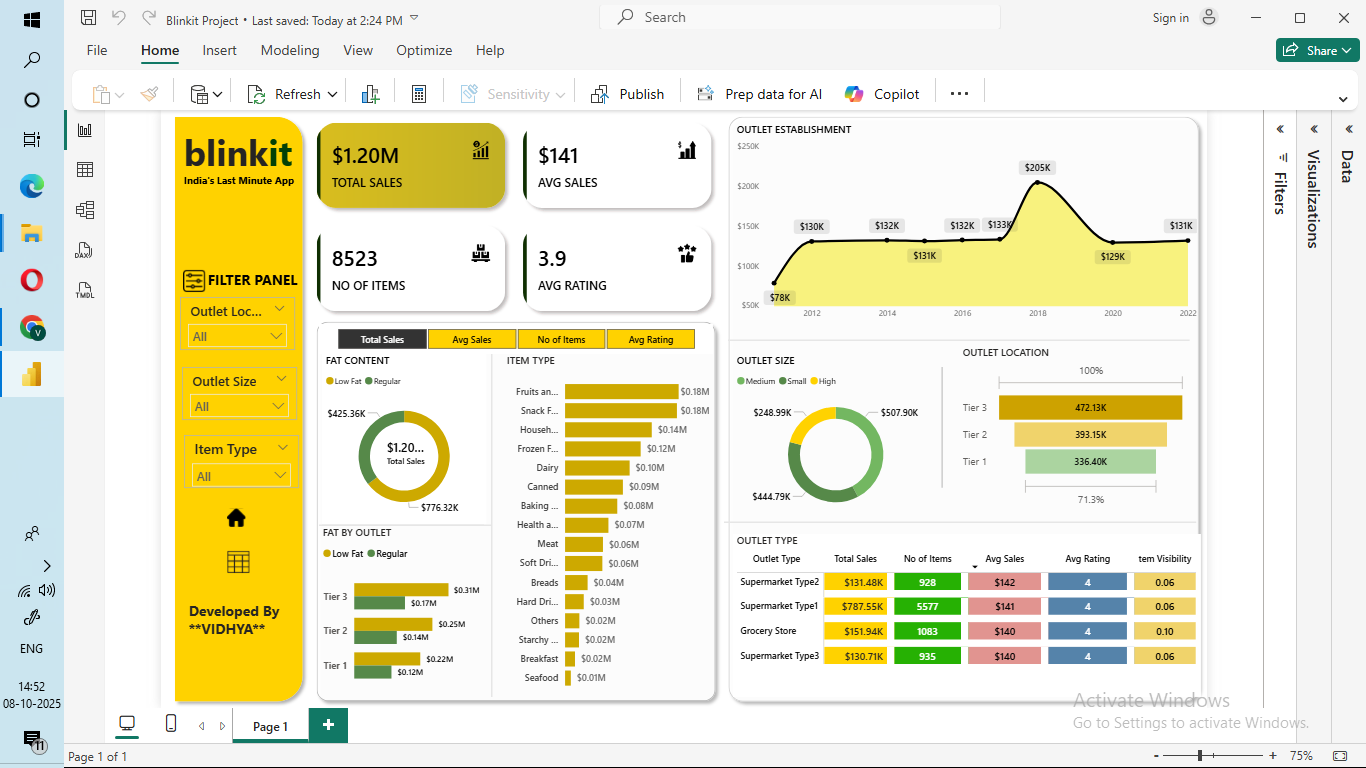

This screenshot's page, from the dashboard's own definition file:
{"tool":"powerbi","page":{"name":"Page 1","canvas":[1400,800],"ordinal":0},"visuals":[{"type":"shape","box":[9.7,0,189.1,800.2],"z":0},{"type":"textbox","box":[25.4,17.4,172.6,77.6],"z":1000},{"type":"textbox","box":[25.4,80.3,165.9,52.2],"z":2000},{"type":"cardVisual","fields":{"Data":["BlinkIT Grocery Data.Total Sales","BlinkIT Grocery Data.Avg Sales","BlinkIT Grocery Data.No of Items","BlinkIT Grocery Data.Avg Rating"]},"box":[190.8,0,562.6,286.1],"z":3000},{"type":"shape","box":[198.8,274.8,551.3,525.4],"z":4000},{"type":"donutChart","title":"FAT CONTENT","fields":{"Y":["BlinkIT Grocery Data.Total Sales"],"Category":["BlinkIT Grocery Data.Item Fat Content"]},"box":[215,326.6,219.9,229.6],"z":5000},{"type":"slicer","fields":{"Values":["Metrics.Metrics"]},"box":[211.8,286.1,527,40.4],"z":6000},{"type":"cardVisual","fields":{"Data":["BlinkIT Grocery Data.Total Sales"]},"box":[284.5,423.6,85.7,66.3],"z":7000},{"type":"clusteredBarChart","title":"FAT BY OUTLET","fields":{"Y":["BlinkIT Grocery Data.Total Sales"],"Category":["BlinkIT Grocery Data.Outlet Location Type"],"Series":["BlinkIT Grocery Data.Item Fat Content"]},"box":[211.8,556.1,219.9,229.6],"z":8000},{"type":"shape","box":[215,538.3,216.6,35.6],"z":9000},{"type":"shape","box":[413.9,326.6,58.2,459.1],"z":10000},{"type":"barChart","title":"ITEM TYPE","fields":{"Y":["BlinkIT Grocery Data.Total Sales"],"Category":["BlinkIT Grocery Data.Item Type"]},"box":[457.5,326.6,281.3,459.1],"z":11000},{"type":"shape","box":[750.1,0,646.7,800.2],"z":12000},{"type":"lineChart","title":"OUTLET ESTABLISHMENT","fields":{"Y":["BlinkIT Grocery Data.Total Sales"],"Category":["BlinkIT Grocery Data.Outlet Establishment Year"]},"box":[764.7,17.8,625.6,273.2],"z":13000},{"type":"shape","box":[211.8,538.3,231.2,35.6],"z":14000},{"type":"shape","box":[758.2,286.1,617.6,43.6],"z":15000},{"type":"donutChart","title":"OUTLET SIZE","fields":{"Y":["BlinkIT Grocery Data.Total Sales"],"Category":["BlinkIT Grocery Data.Outlet Size"]},"box":[764.7,326.6,274.8,224.7],"z":16000},{"type":"shape","box":[1016.9,344.3,56.6,161.7],"z":17000},{"type":"funnel","title":"OUTLET LOCATION","fields":{"Y":["Sum(BlinkIT Grocery Data.Sales)"],"Category":["BlinkIT Grocery Data.Outlet Location Type"]},"box":[1067,315.2,308.8,219.9],"z":18000},{"type":"shape","box":[753.3,530.3,632.1,43.6],"z":19000},{"type":"pivotTable","title":"OUTLET TYPE","fields":{"Rows":["BlinkIT Grocery Data.Outlet Type"],"Values":["BlinkIT Grocery Data.Total Sales","BlinkIT Grocery Data.No of Items","BlinkIT Grocery Data.Avg Sales","BlinkIT Grocery Data.Avg Rating","Avg(BlinkIT Grocery Data.Item Visibility)"]},"box":[764.7,567.4,625.6,218.2],"z":20000},{"type":"slicer","fields":{"Values":["BlinkIT Grocery Data.Outlet Location Type"]},"box":[25.9,250.6,153.6,71.1],"z":21000},{"type":"slicer","fields":{"Values":["BlinkIT Grocery Data.Outlet Size"]},"box":[27.5,344.3,153.6,71.1],"z":22000},{"type":"slicer","fields":{"Values":["BlinkIT Grocery Data.Item Type"]},"box":[30.7,434.9,153.6,71.1],"z":23000},{"type":"textbox","box":[58,208.2,132.3,43.1],"z":24000},{"type":"textbox","box":[32.7,651.3,147.2,81.8],"z":25000},{"type":"actionButton","box":[72.9,521.9,58,46.1],"z":25001},{"type":"actionButton","box":[25.3,208.2,38.7,40.1],"z":25002},{"type":"actionButton","box":[77.3,584.4,52,40.1],"z":25003}]}

Visuals, with their boxes on the page's 1400x800 design canvas (x1, y1, x2, y2). These are canvas units, not pixel positions in the 1366x768 screenshot, which may show the page scaled, cropped or inside an application window:
shape: box=[10, 0, 199, 800]
textbox: box=[25, 17, 198, 95]
textbox: box=[25, 80, 191, 132]
cardVisual - BlinkIT Grocery Data.Total Sales x BlinkIT Grocery Data.Avg Sales: box=[191, 0, 753, 286]
shape: box=[199, 275, 750, 800]
"FAT CONTENT" donutChart: box=[215, 327, 435, 556]
slicer - Metrics.Metrics: box=[212, 286, 739, 326]
cardVisual - BlinkIT Grocery Data.Total Sales: box=[284, 424, 370, 490]
"FAT BY OUTLET" clusteredBarChart: box=[212, 556, 432, 786]
shape: box=[215, 538, 432, 574]
shape: box=[414, 327, 472, 786]
"ITEM TYPE" barChart: box=[458, 327, 739, 786]
shape: box=[750, 0, 1397, 800]
"OUTLET ESTABLISHMENT" lineChart: box=[765, 18, 1390, 291]
shape: box=[212, 538, 443, 574]
shape: box=[758, 286, 1376, 330]
"OUTLET SIZE" donutChart: box=[765, 327, 1040, 551]
shape: box=[1017, 344, 1074, 506]
"OUTLET LOCATION" funnel: box=[1067, 315, 1376, 535]
shape: box=[753, 530, 1385, 574]
"OUTLET TYPE" pivotTable: box=[765, 567, 1390, 786]
slicer - BlinkIT Grocery Data.Outlet Location Type: box=[26, 251, 180, 322]
slicer - BlinkIT Grocery Data.Outlet Size: box=[28, 344, 181, 415]
slicer - BlinkIT Grocery Data.Item Type: box=[31, 435, 184, 506]
textbox: box=[58, 208, 190, 251]
textbox: box=[33, 651, 180, 733]
actionButton: box=[73, 522, 131, 568]
actionButton: box=[25, 208, 64, 248]
actionButton: box=[77, 584, 129, 624]
